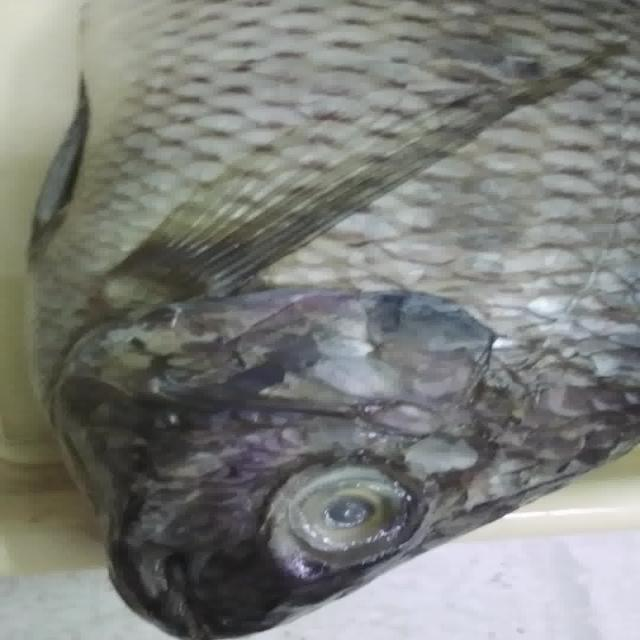Non-Fresh: (69, 156, 605, 447), (274, 463, 424, 558)
